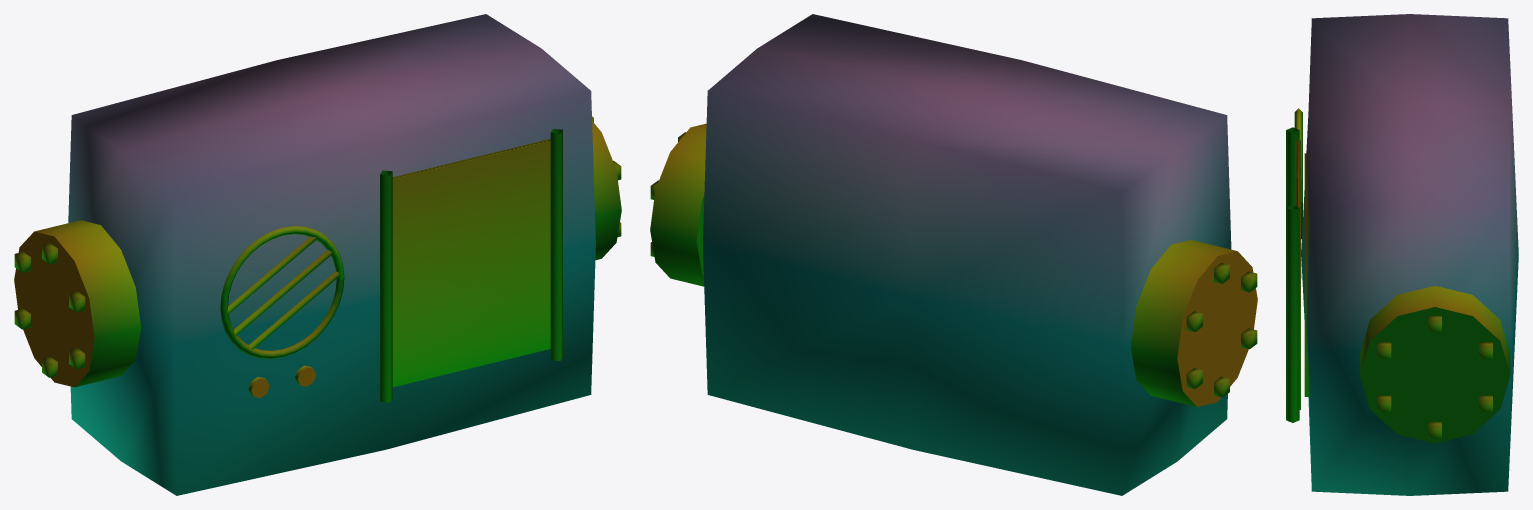
Rendered from conduit_housing.glb.
3 renders of one model, left to right at view 1: azimuth 30°, elevation 25°; view 2: azimuth 150°, elevation 25°; view 3: azimuth 270°, elevation 25°, orthographic. The views are drawn at different scales.
Parts seen in each view (by area): view 1: conduit_housing; view 2: conduit_housing; view 3: conduit_housing.
Boxes of the visible parts, box(x1,y1,x2,y2) form: conduit_housing: box(14, 14, 621, 495); conduit_housing: box(650, 14, 1257, 495); conduit_housing: box(1286, 14, 1518, 495).
Size of what is drawn, in the model's own units: 0.7026 by 0.4 by 0.278.
